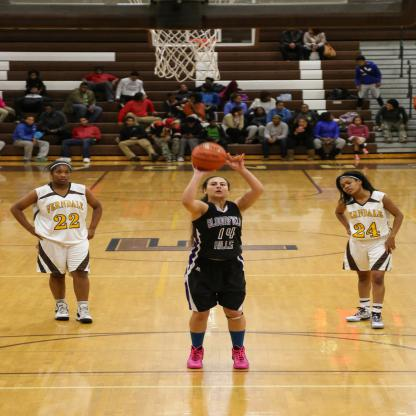Ball: (192, 144, 226, 170)
